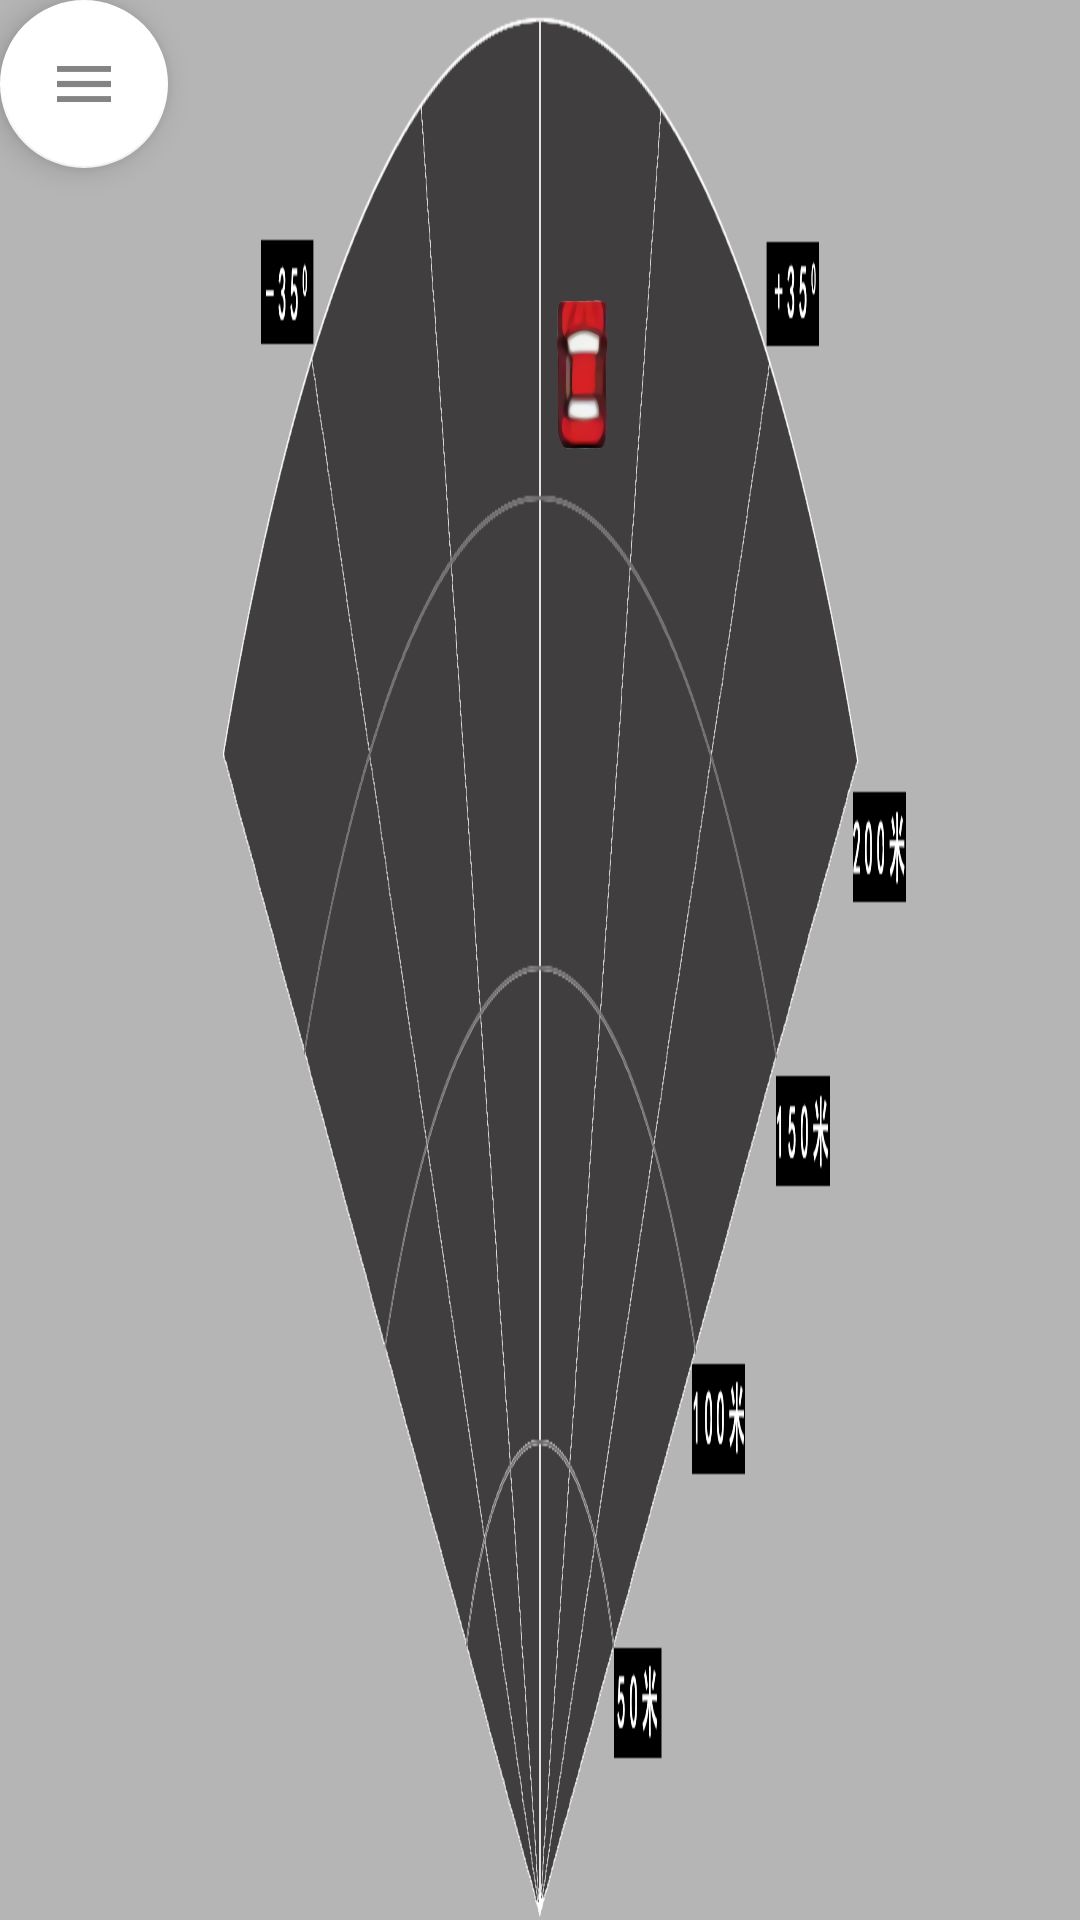

Named icons in this screenshot (1080 x 1920) and their bounding boxes, bbox=[x1, y1, x2, y2]:
car: bbox=[557, 300, 607, 449]
menu: bbox=[0, 0, 168, 168]
